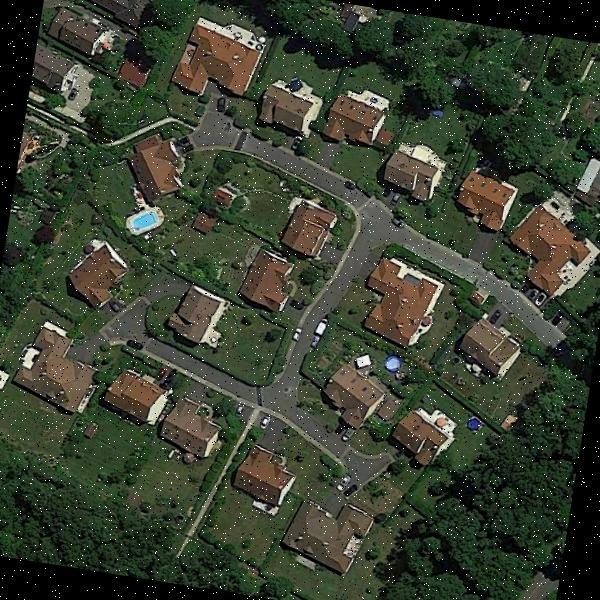Buildings: (508, 203, 598, 297), (17, 320, 100, 410), (360, 259, 434, 349), (178, 20, 265, 96), (292, 501, 374, 569), (318, 359, 389, 428), (104, 364, 170, 427), (322, 83, 390, 144), (454, 324, 522, 384), (132, 134, 186, 206), (392, 413, 460, 470), (166, 288, 228, 343), (72, 248, 128, 307), (230, 449, 289, 504), (242, 250, 292, 312), (456, 173, 512, 227), (166, 407, 222, 457), (260, 87, 316, 135), (381, 150, 436, 195), (289, 206, 333, 251), (30, 54, 76, 92), (61, 12, 105, 50), (92, 0, 137, 12), (192, 211, 212, 231), (217, 192, 233, 209)
